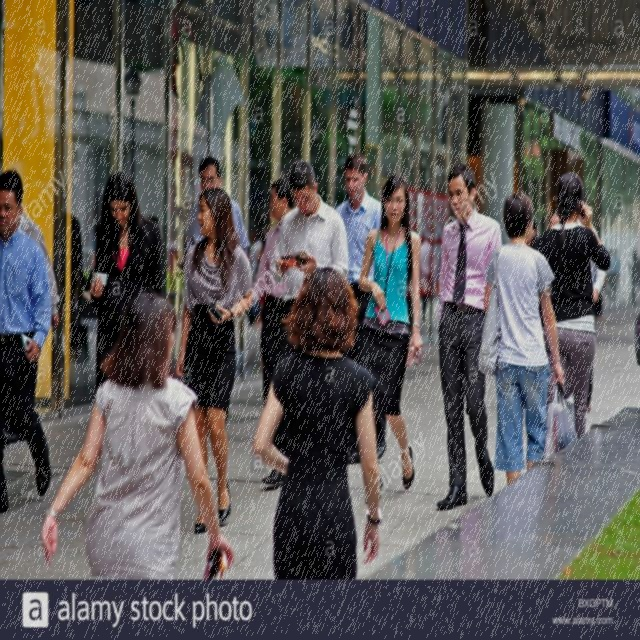pessoa: (38, 289, 236, 582), (252, 263, 386, 582), (172, 184, 254, 543), (354, 170, 428, 510), (482, 191, 565, 488), (436, 163, 504, 511), (531, 168, 613, 442), (0, 169, 56, 517), (84, 170, 165, 395), (333, 150, 388, 467), (270, 158, 350, 362), (16, 197, 94, 366), (250, 177, 296, 410), (574, 202, 608, 422), (184, 153, 249, 260), (564, 210, 612, 346), (539, 198, 561, 238)
